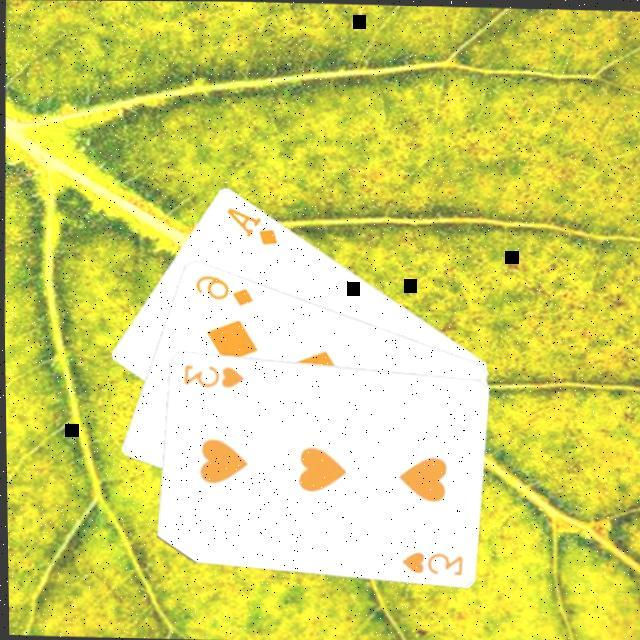3H: (395, 544, 462, 576), (177, 358, 243, 388)
6D: (189, 268, 254, 306)
AD: (220, 200, 279, 245)
